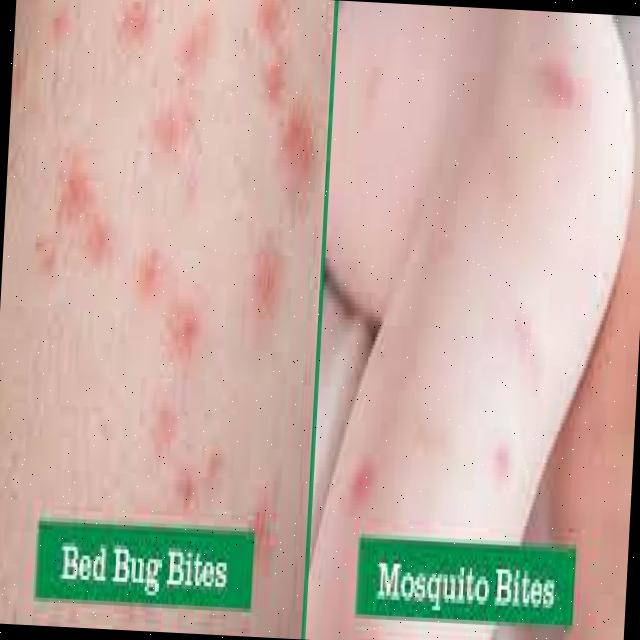kan emici bocekler: (43, 165, 110, 281), (248, 12, 300, 114), (269, 108, 320, 209), (171, 444, 222, 519), (169, 13, 221, 84), (249, 248, 288, 329), (153, 109, 202, 168), (138, 248, 180, 301), (115, 2, 154, 55), (146, 411, 184, 462), (165, 304, 195, 350)
sinek: (331, 428, 432, 563), (515, 40, 611, 146), (472, 415, 536, 525)
